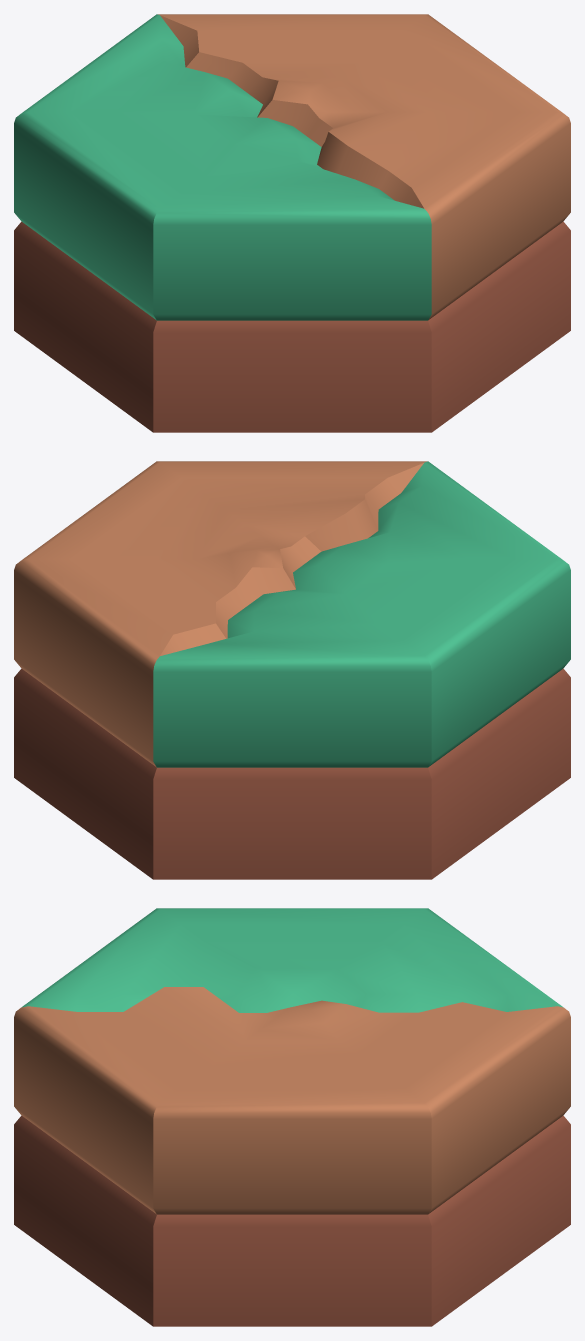
Rendered from hex_forest_transitionA.glb.
The picture shows the model from 3 angles, top to bottom: view 1: azimuth 30°, elevation 25°; view 2: azimuth 150°, elevation 25°; view 3: azimuth 270°, elevation 25°; orthographic projection.
Visible parts, largest first — view 1: hex_forest_transitionA; view 2: hex_forest_transitionA; view 3: hex_forest_transitionA.
Part boxes in pixels (x1,y1,x2,y2): hex_forest_transitionA: (14,14,570,432); hex_forest_transitionA: (14,461,570,879); hex_forest_transitionA: (14,908,570,1326).
Size of the model in its own units: 2 by 1.07 by 2.31.
